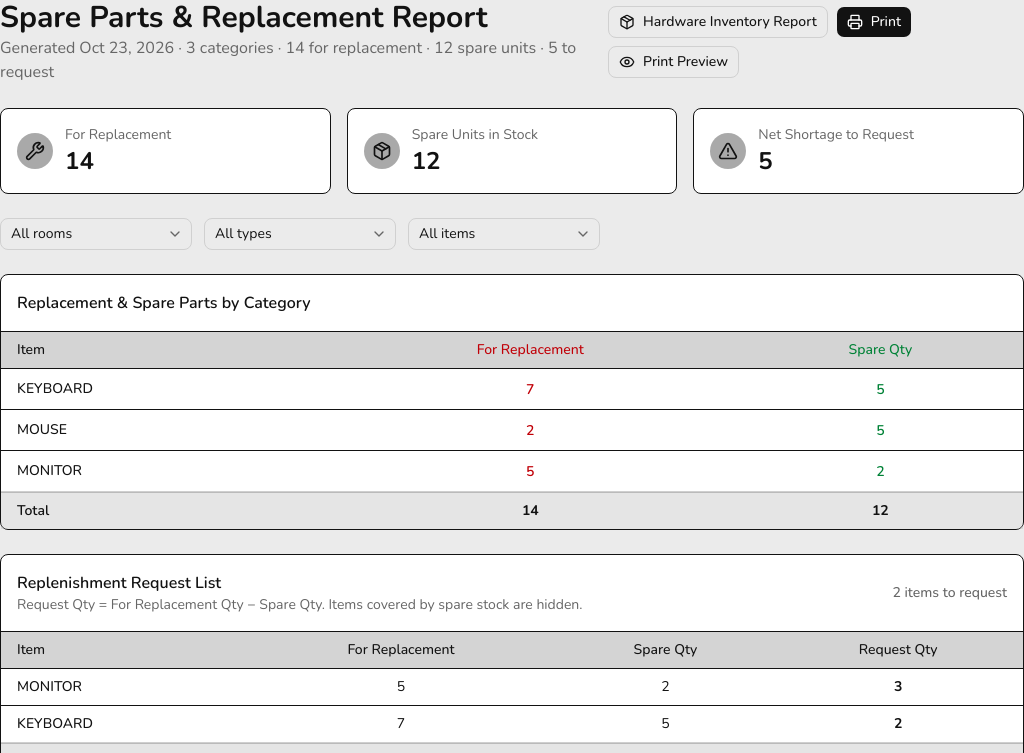
Scenario: SparePartsReport › applies the room filter and renders the filtered response
Click the dropdown named "filter by room": (96, 234) [0,218,192,250]
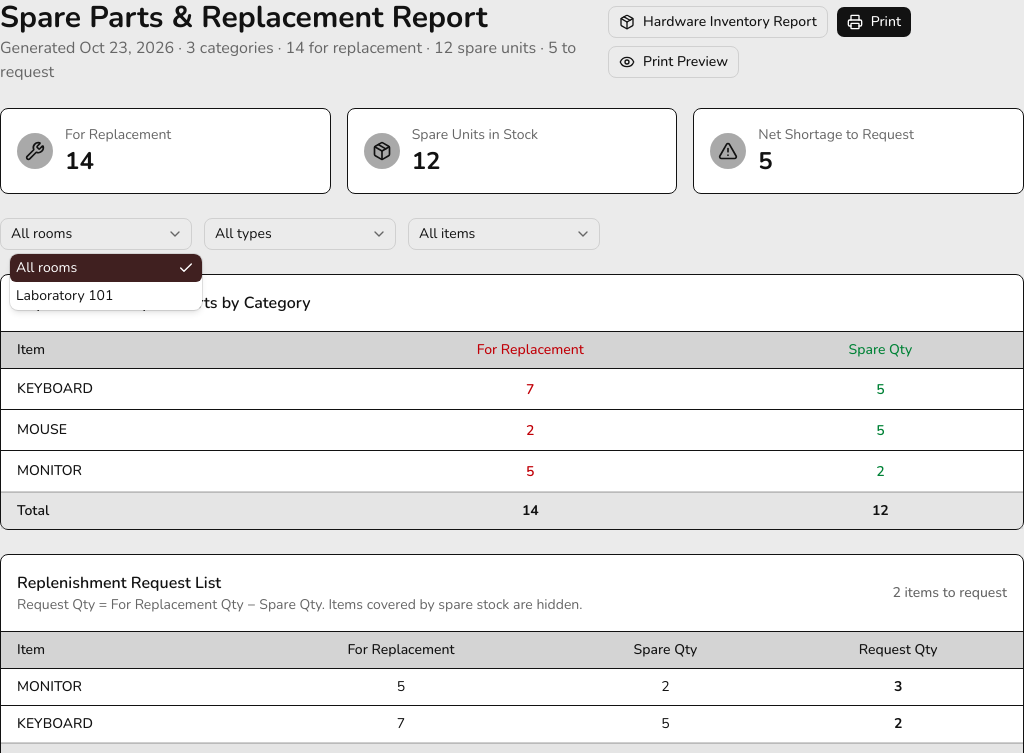
Click the option "Laboratory 101": (65, 296) [16,286,113,305]
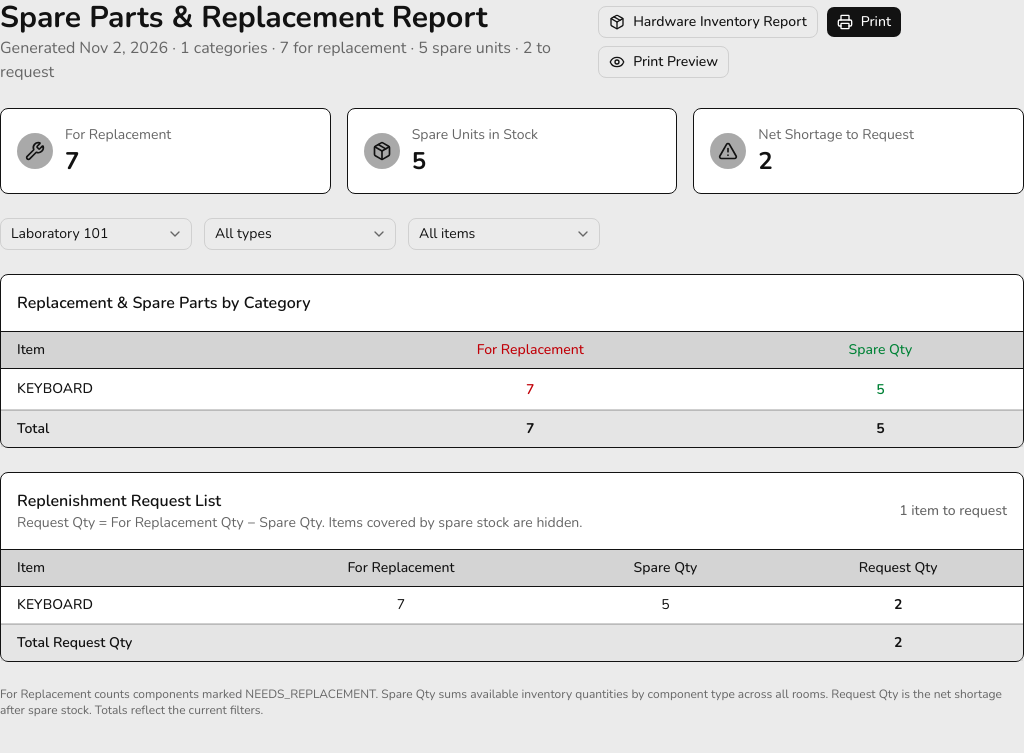
Check: the link "KEYBOARD" below "Replacement & Spare Parts by Category" is shown, box [17,379,93,398]
Check: the link "MONITOR" is gone
